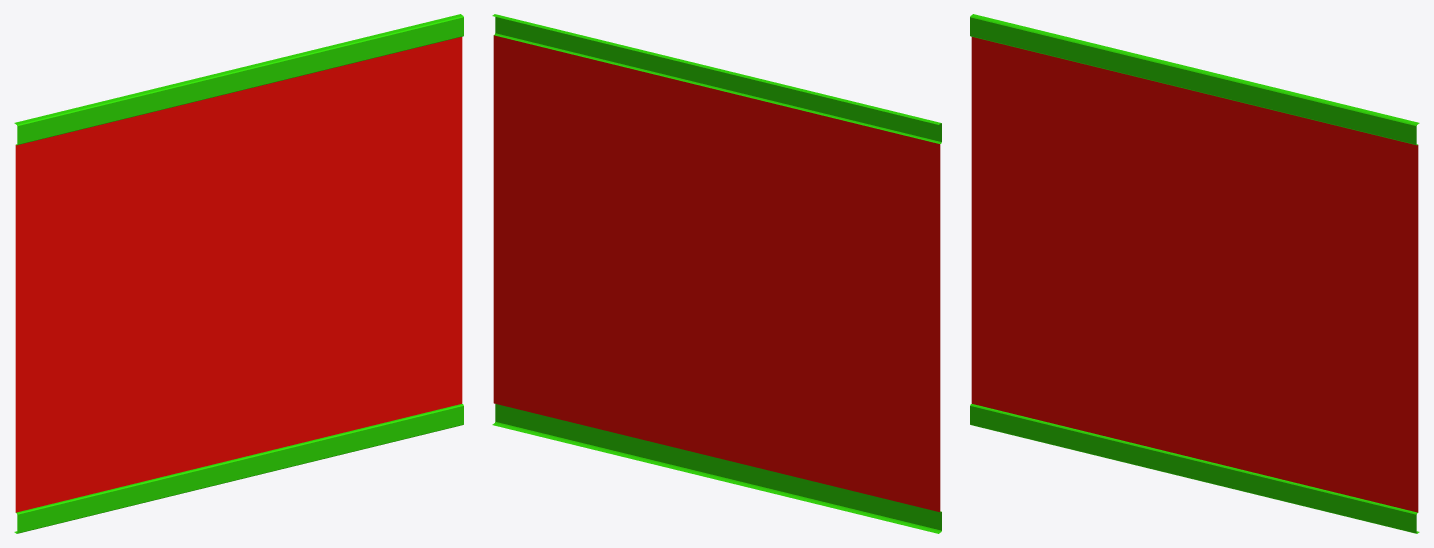
Rendered from KoshiKabe-1.fbx.
3 renders of one model, left to right at view 1: azimuth 30°, elevation 25°; view 2: azimuth 150°, elevation 25°; view 3: azimuth 330°, elevation 25°, orthographic.
Visible parts, largest first — view 1: KoshiKabe-1; view 2: KoshiKabe-1; view 3: KoshiKabe-1.
Part boxes in pixels (<box>): KoshiKabe-1: <box>14,14,463,533</box>; KoshiKabe-1: <box>492,14,941,533</box>; KoshiKabe-1: <box>970,14,1419,533</box>.
Size of the model in its own units: 0.96 by 0.84 by 0.012.
